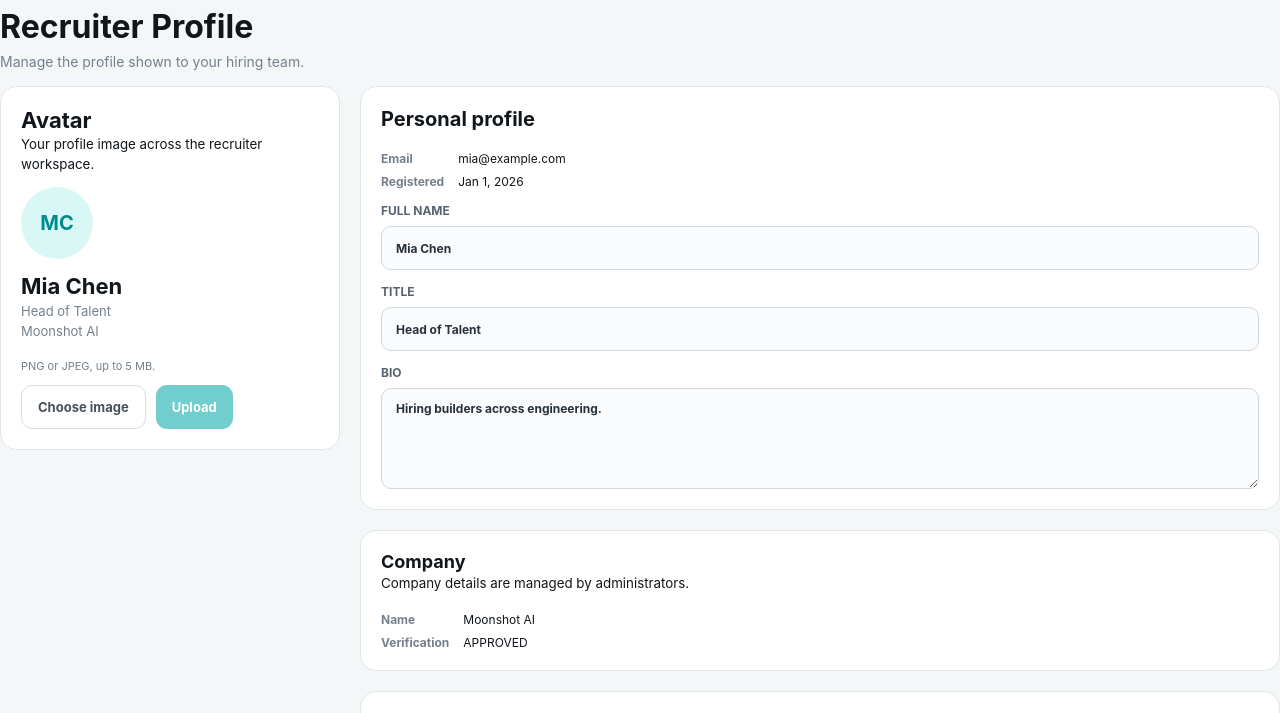
it: ProfilePage › saves successfully without sending an avatarUrl
Replace the text in the field showing "Mia Chen" with " Mia Chen Updated " at (820,248), box [381,226,1259,270]
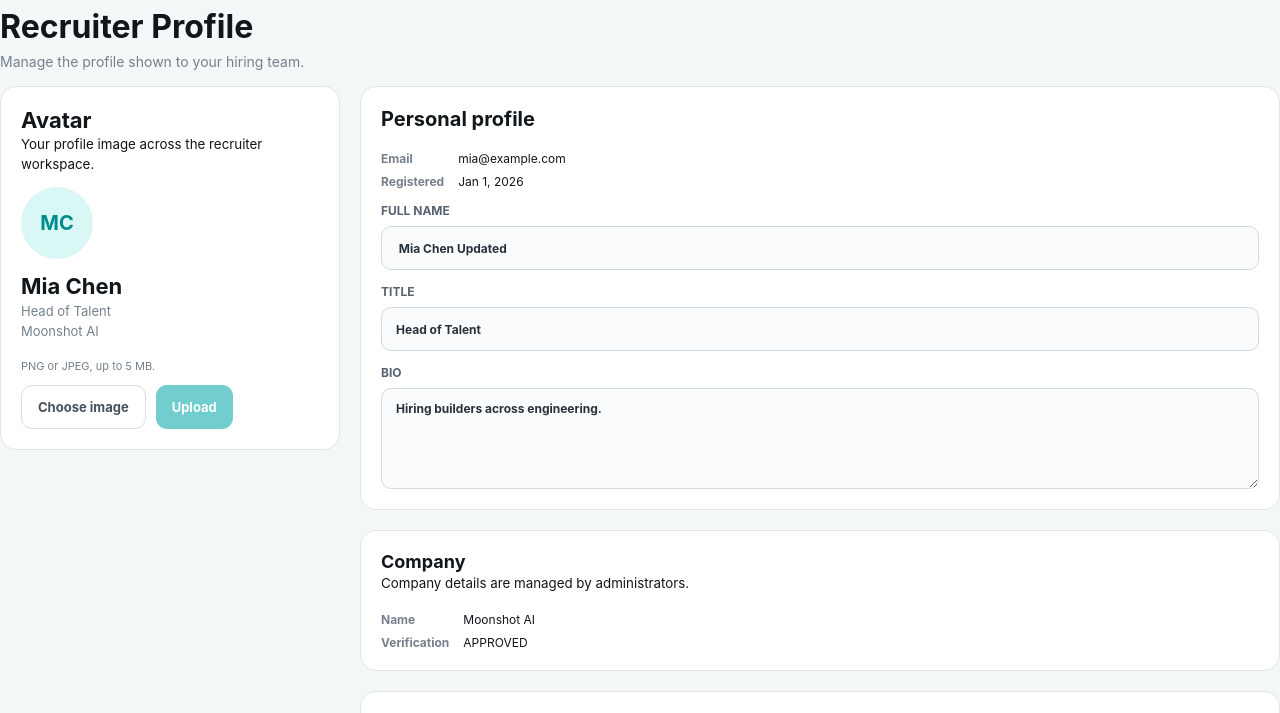
Replace the text in the field showing "Head of Talent" with " VP Talent " at (820,329), box [381,307,1259,351]
(page scrolled)
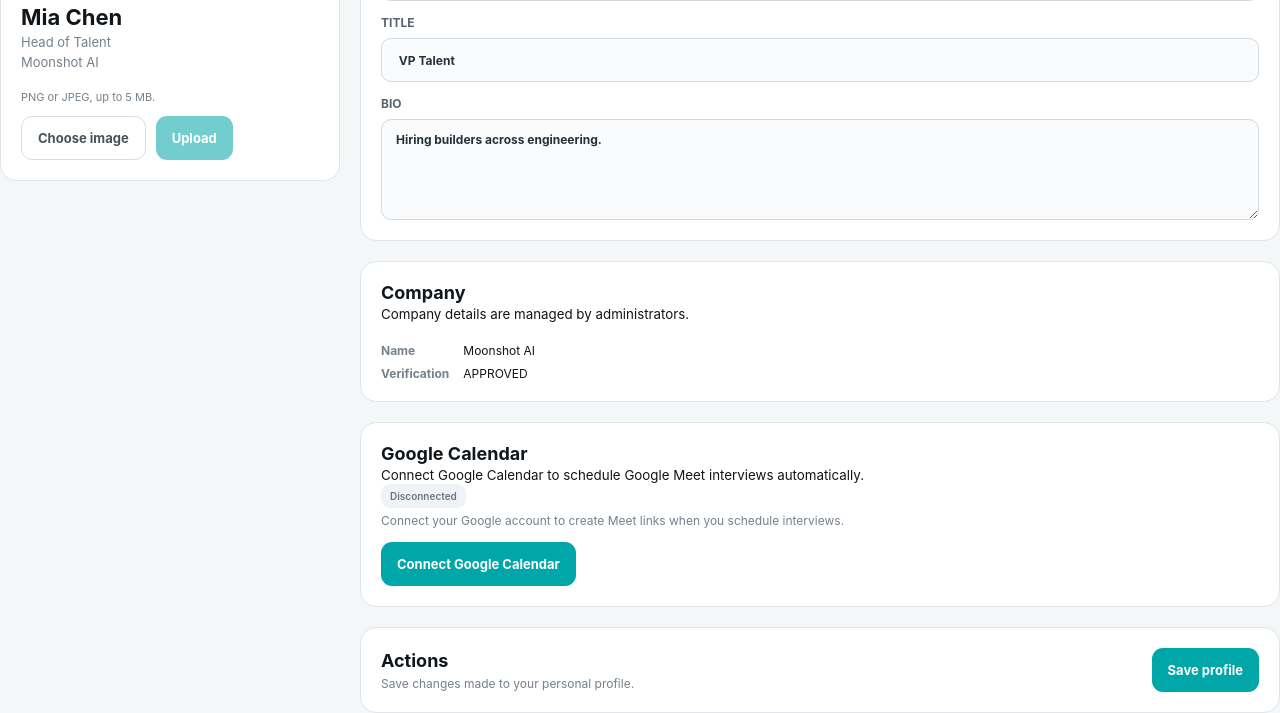
Click the button "Save profile" at (1205,670), box [1152,648,1259,692]
(page scrolled)
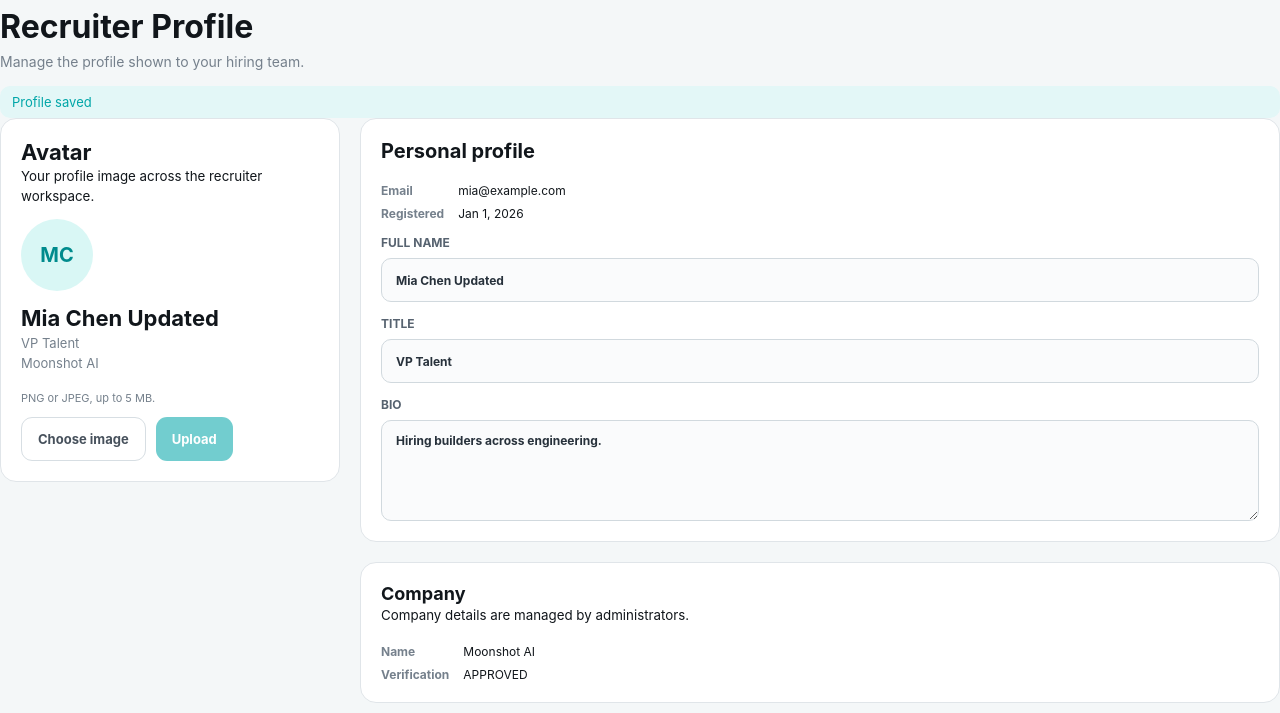
Now the text "Profile saved" is shown, box [0,86,1279,118]
